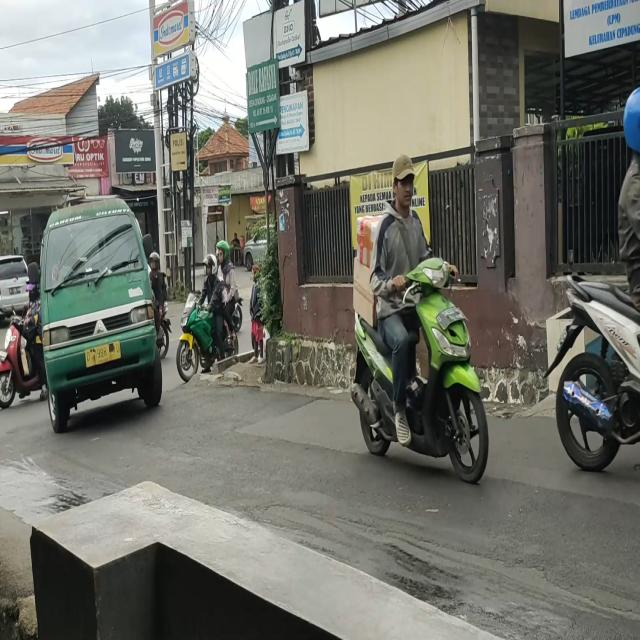helmet: (625, 88, 640, 148), (204, 255, 218, 278), (218, 244, 230, 264), (151, 252, 160, 268)
no-helmet: (392, 156, 416, 207)
